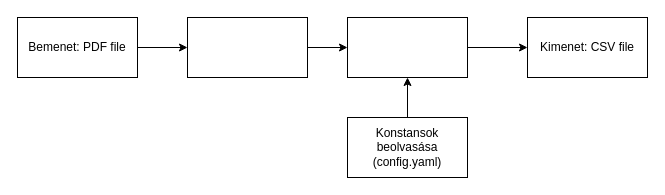
Some shapes in this 665 by 195 pixel diagram are drawn without their labels. Here are the shapes that lost their labels. From the top down, the box of each, then its label:
(186, 16, 308, 78): PNG-be konvertálás
(346, 16, 468, 78): Jellemző kinyerések
